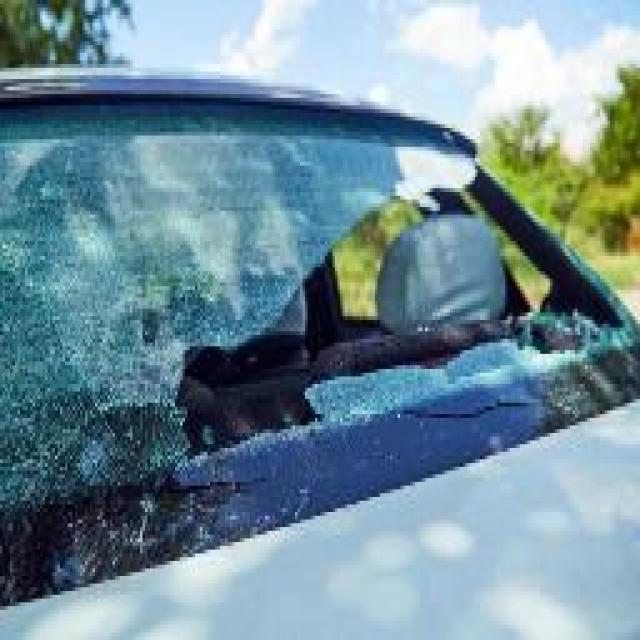Windshield: (0, 90, 640, 527)
